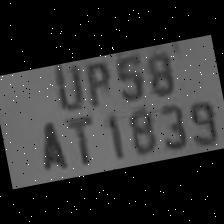1: (94, 104, 130, 165)
3: (152, 96, 191, 154)
5: (108, 48, 149, 104)
8: (120, 102, 160, 159), (139, 43, 180, 98)
9: (182, 92, 222, 149)
A: (26, 114, 70, 174)
P: (76, 55, 116, 110)
T: (58, 109, 101, 168)
U: (44, 60, 86, 113)
